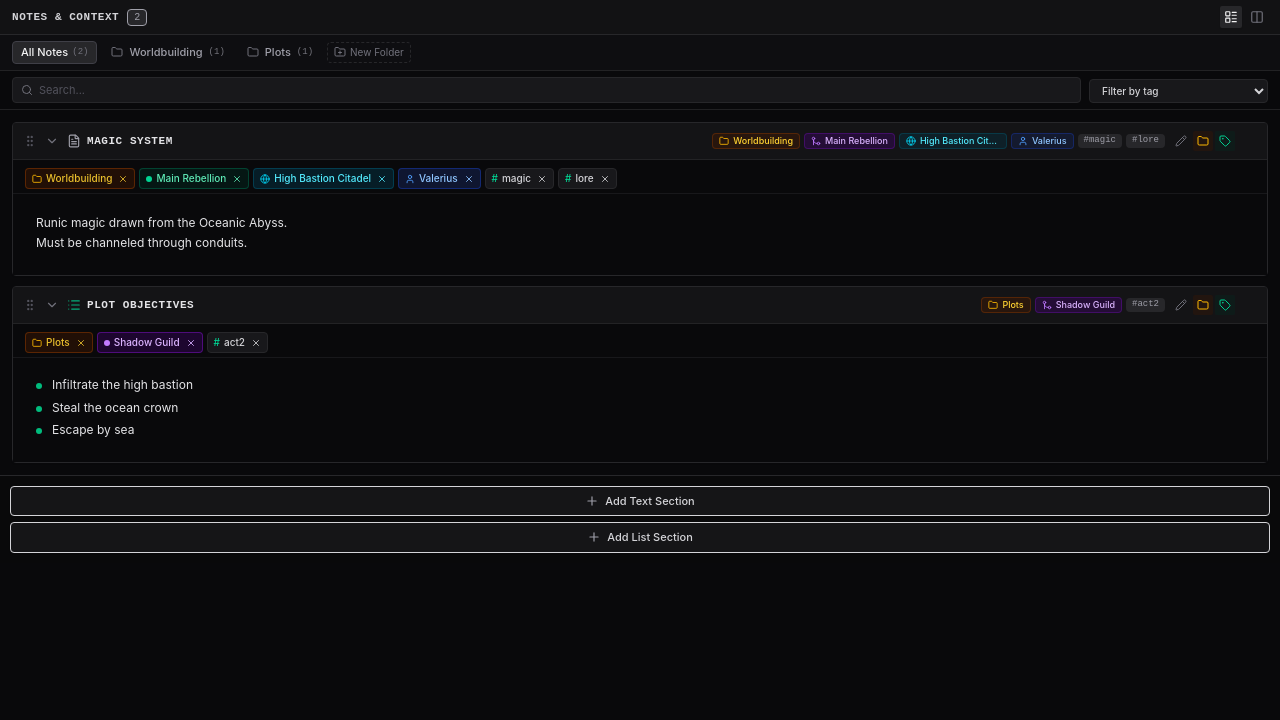
Test: ContextPanel and ContextBlockItem (Notes View) › renders list note with clean bullet points and no textarea in view mode, revealing textarea on edit
Expected: the text "Plot Objectives" is shown, [87,299,194,311]
Expected: the text "Steal the ocean crown" is shown, [52,400,178,416]
Note: Click on a list item to enter edit mode
Click the text "Infiltrate the high bastion" at (122, 385), box [52,377,193,394]
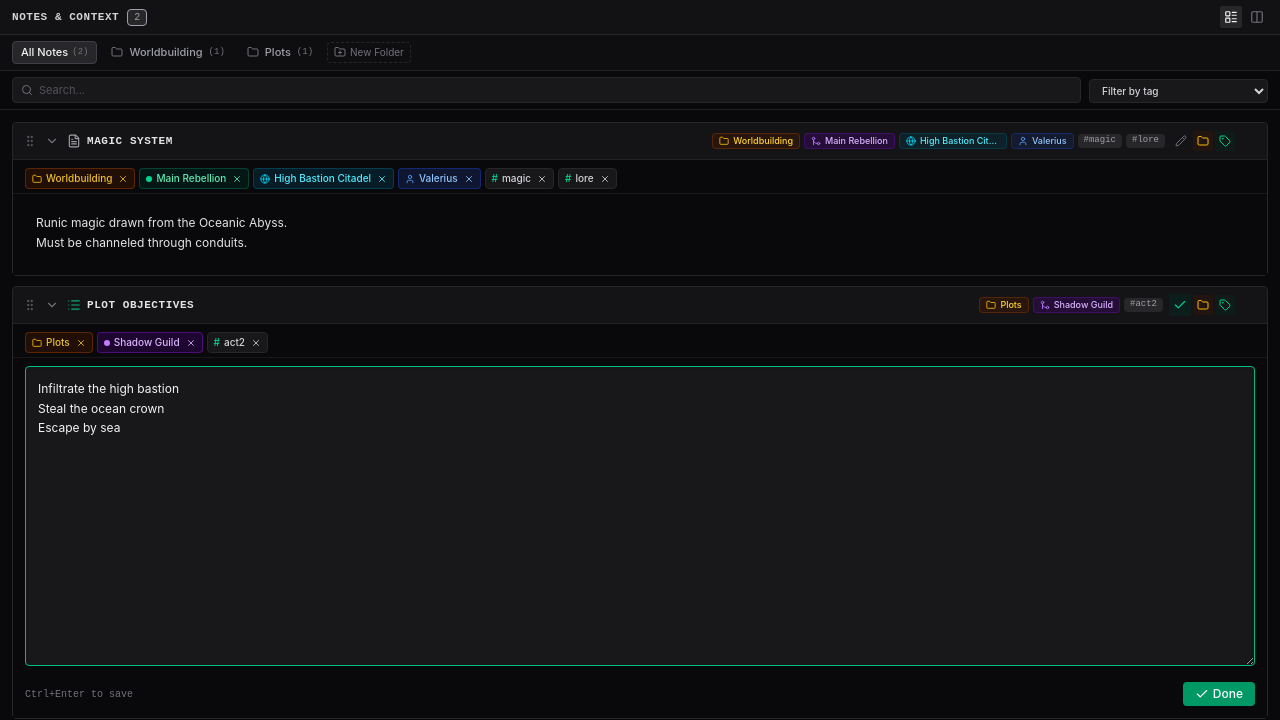
Expected: the text box with placeholder "One item per line..." is shown, [25,366,1255,666]
